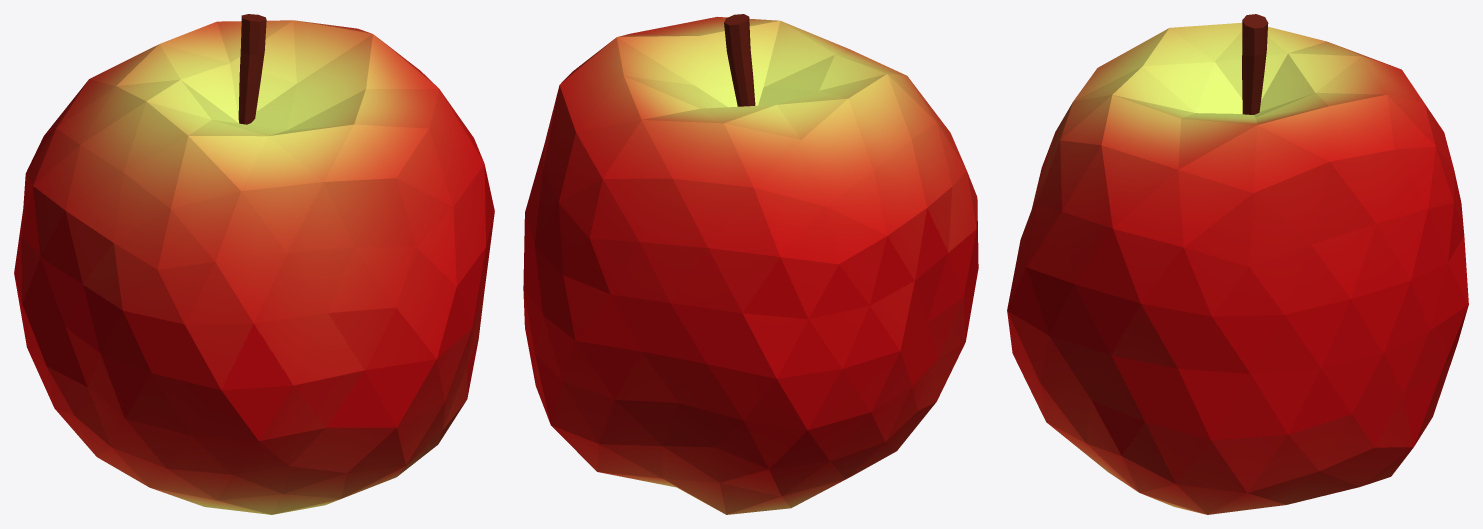
File: Apple.glb
3 renders of one model, left to right at view 1: azimuth 30°, elevation 25°; view 2: azimuth 150°, elevation 25°; view 3: azimuth 270°, elevation 25°, orthographic.
Visible parts, largest first — view 1: ICO球, 円柱; view 2: ICO球, 円柱; view 3: ICO球, 円柱.
Part boxes in pixels (x1,y1,x2,y2): ICO球: [14, 20, 494, 514]; 円柱: [238, 14, 266, 124]; ICO球: [523, 16, 978, 514]; 円柱: [724, 14, 755, 106]; ICO球: [1007, 22, 1468, 514]; 円柱: [1242, 14, 1268, 114].
Size of the model in its own units: 1.49 by 1.7 by 1.53.
2 materials, 2 textured.
